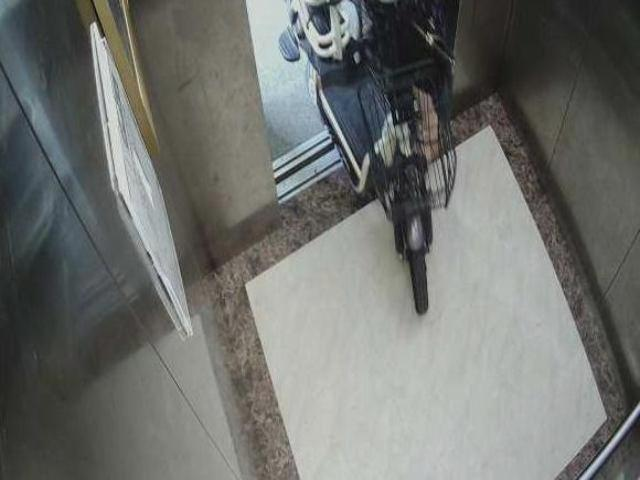emotor: (282, 4, 477, 315)
